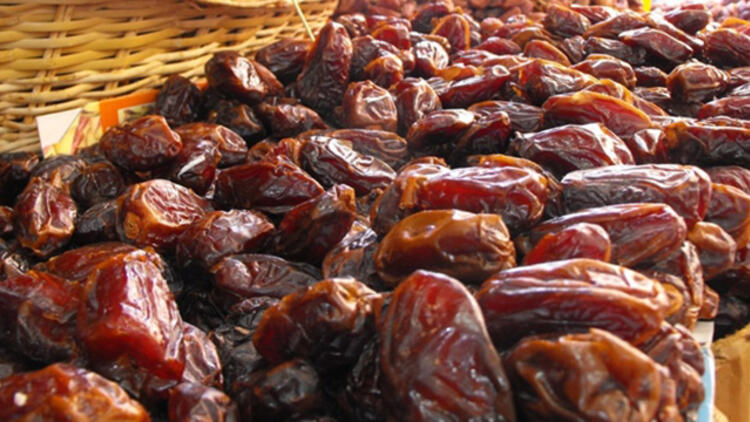hurmaa: (364, 262, 521, 422), (472, 262, 674, 337), (80, 254, 192, 389), (557, 163, 714, 227), (413, 162, 551, 226), (298, 128, 404, 203), (114, 177, 224, 243), (343, 77, 405, 134)
